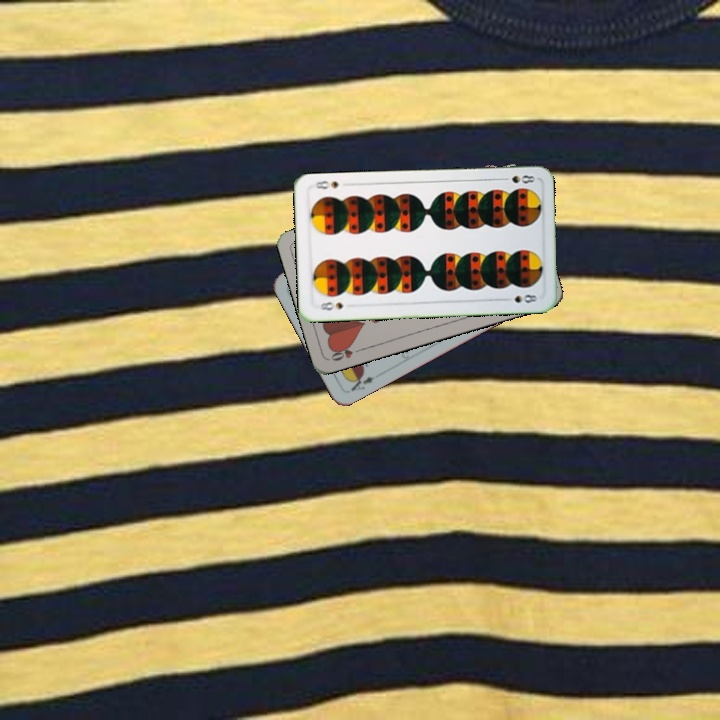EA: (345, 369, 377, 394)
HO: (327, 341, 366, 364)
S8: (497, 171, 537, 186), (316, 298, 346, 313)
